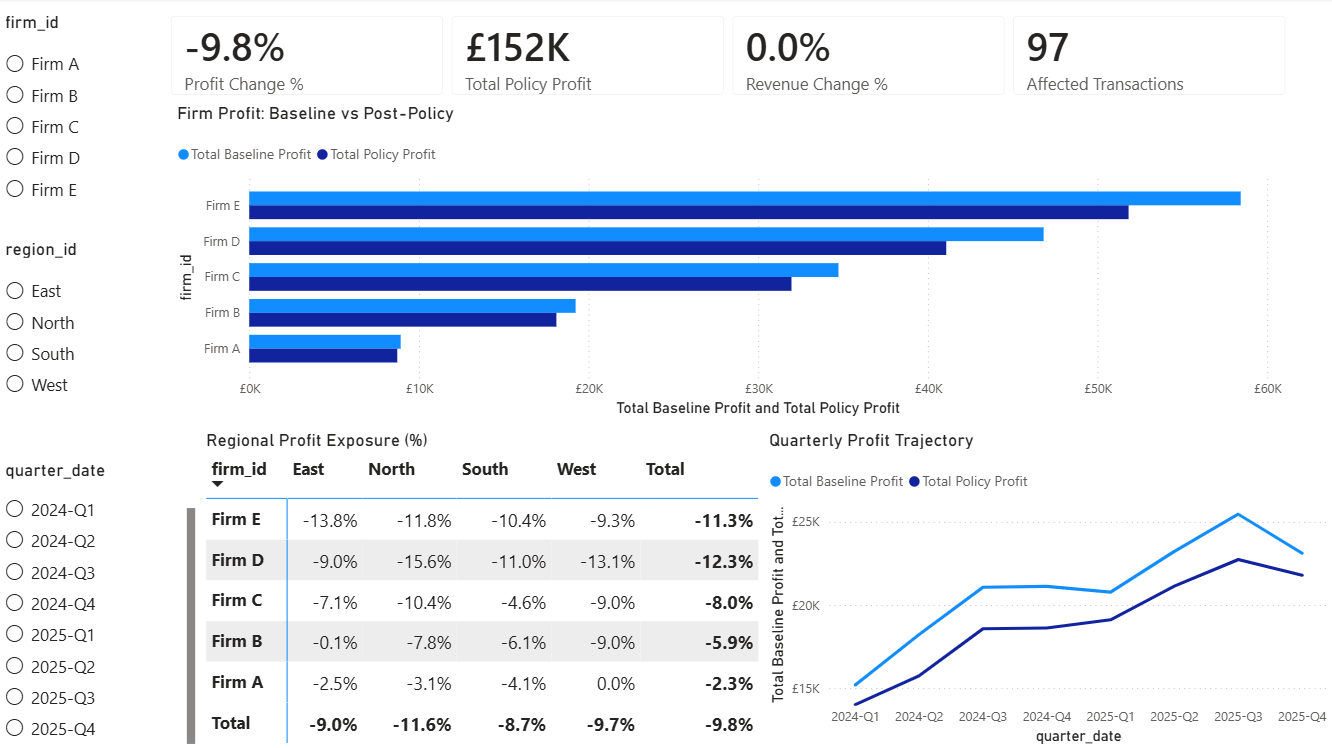

Layout of this report page (visuals, bound fields, positions):
{"tool":"powerbi","page":{"name":"Page 1","canvas":[1280,720],"ordinal":0},"visuals":[{"type":"listSlicer","fields":{"Values":["simulated_transactions.firm_id"]},"box":[0,12.5,164.8,195.4],"z":0},{"type":"cardVisual","fields":{"Data":["_Measures.Profit Change %","_Measures.Total Policy Profit","_Measures.Revenue Change %","_Measures.Affected Transactions"]},"box":[146.6,0,1105.6,110.2],"z":1000},{"type":"listSlicer","fields":{"Values":["simulated_transactions.region_id"]},"box":[0,229.9,164.8,183],"z":2000},{"type":"listSlicer","fields":{"Values":["simulated_transactions.quarter_date"]},"box":[0,441.7,192.6,278.8],"z":3000},{"type":"clusteredBarChart","title":"Firm Profit: Baseline vs Post-Policy","fields":{"Category":["simulated_transactions.firm_id"],"Y":["_Measures.Total Baseline Profit","_Measures.Total Policy Profit"]},"box":[164.8,99.6,1068.3,306.6],"z":4000},{"type":"pivotTable","title":"Regional Profit Exposure (%)","fields":{"Rows":["simulated_transactions.firm_id"],"Columns":["simulated_transactions.region_id"],"Values":["_Measures.Profit Change %"]},"box":[192.6,412.9,539.4,307.5],"z":4001},{"type":"lineChart","title":"Quarterly Profit Trajectory","fields":{"Category":["simulated_transactions.quarter_date"],"Y":["_Measures.Total Baseline Profit","_Measures.Total Policy Profit"]},"box":[732,412.9,548,307.5],"z":4002}]}

Visuals, with their boxes in screenshot pixels (x1, y1, x2, y2), scaled from the page's 1280x720 canvas onto the 1332x748 screenshot:
listSlicer - simulated_transactions.firm_id: rect(0, 13, 171, 216)
cardVisual - _Measures.Profit Change % x _Measures.Total Policy Profit: rect(153, 0, 1303, 114)
listSlicer - simulated_transactions.region_id: rect(0, 239, 171, 429)
listSlicer - simulated_transactions.quarter_date: rect(0, 459, 200, 747)
"Firm Profit: Baseline vs Post-Policy" clusteredBarChart: rect(171, 103, 1283, 422)
"Regional Profit Exposure (%)" pivotTable: rect(200, 429, 762, 747)
"Quarterly Profit Trajectory" lineChart: rect(762, 429, 1331, 747)
